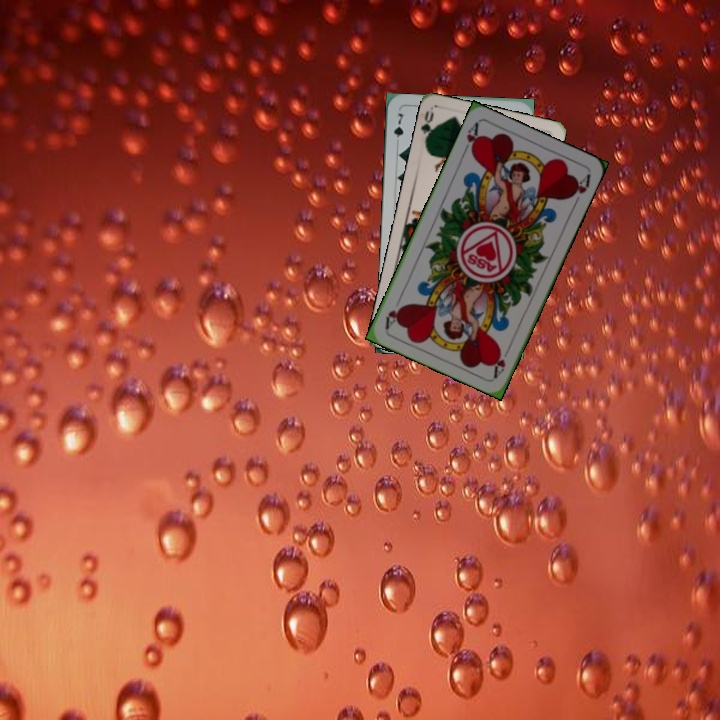G7: (390, 109, 407, 149)
GO: (418, 107, 439, 148)
HA: (489, 341, 514, 380), (458, 119, 482, 158)
